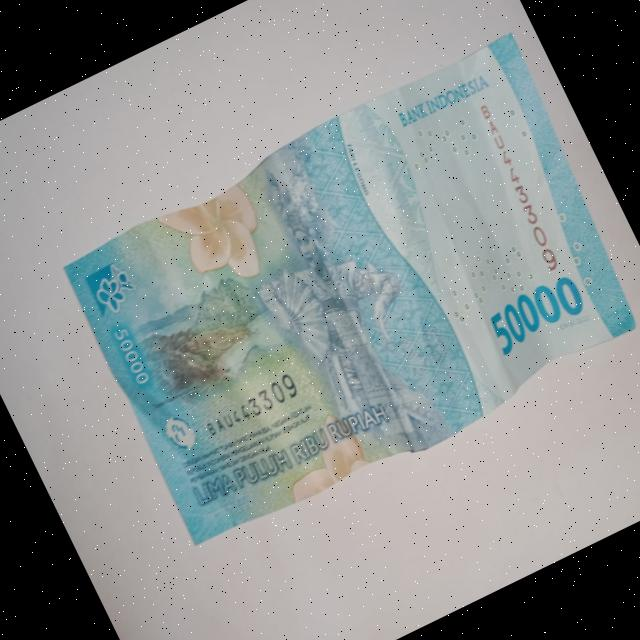50K: (41, 22, 640, 570)
